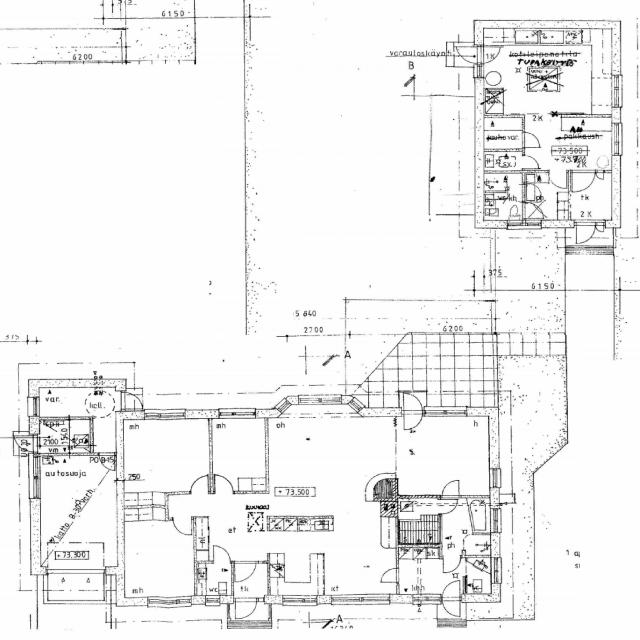door: (572, 170, 596, 194), (9, 433, 39, 452), (235, 595, 256, 622), (454, 46, 483, 64), (575, 219, 595, 245), (473, 46, 501, 64), (404, 408, 422, 433), (404, 392, 422, 417), (442, 579, 460, 604), (442, 595, 460, 620), (115, 392, 143, 408), (236, 561, 256, 582), (522, 183, 544, 200), (190, 476, 209, 495), (214, 476, 233, 495), (442, 556, 460, 575), (173, 517, 192, 535), (549, 170, 566, 189), (442, 480, 459, 498), (98, 452, 115, 470), (213, 546, 230, 564), (438, 499, 457, 514), (522, 133, 541, 147), (381, 568, 399, 581), (522, 156, 539, 168), (595, 219, 604, 236), (596, 171, 602, 179)
